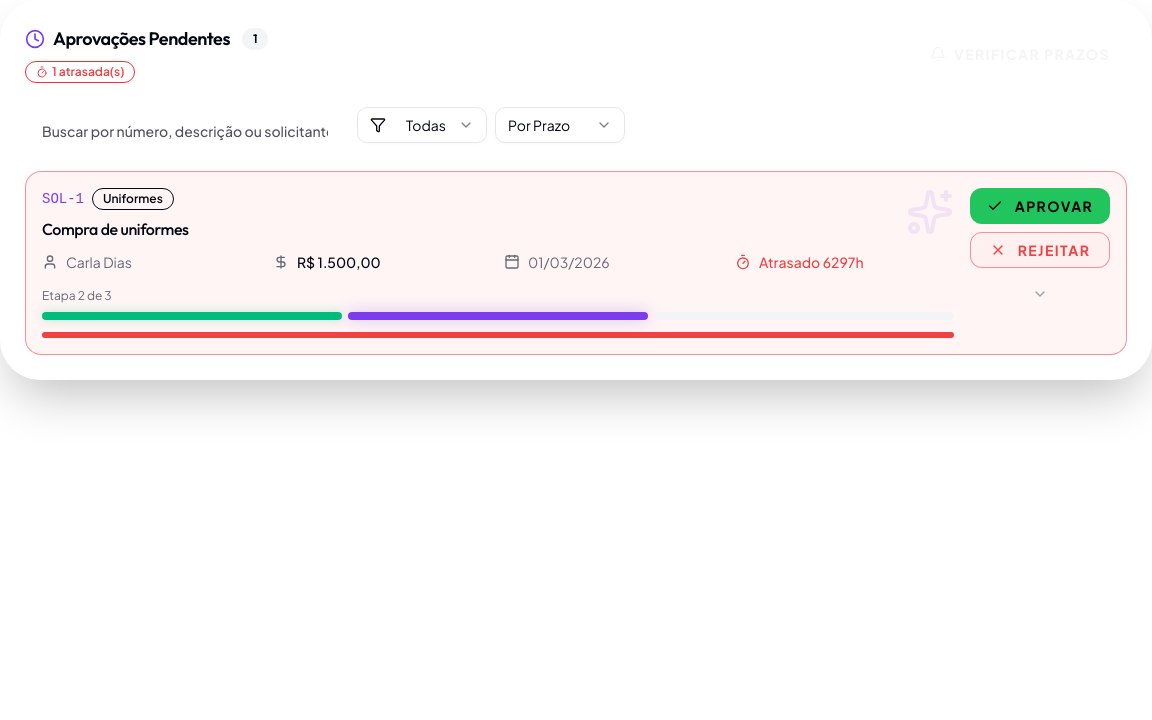
Test: PendingApprovalsList - 'Ver Histórico' abre o historico do workflow (QA 253) › sem eventos, diz que nao ha historico em vez de abrir um dialogo vazio
Press the mouse on the button named "Mais ações da aprovação" at (1040, 294), box left=970, top=276, right=1110, bottom=312
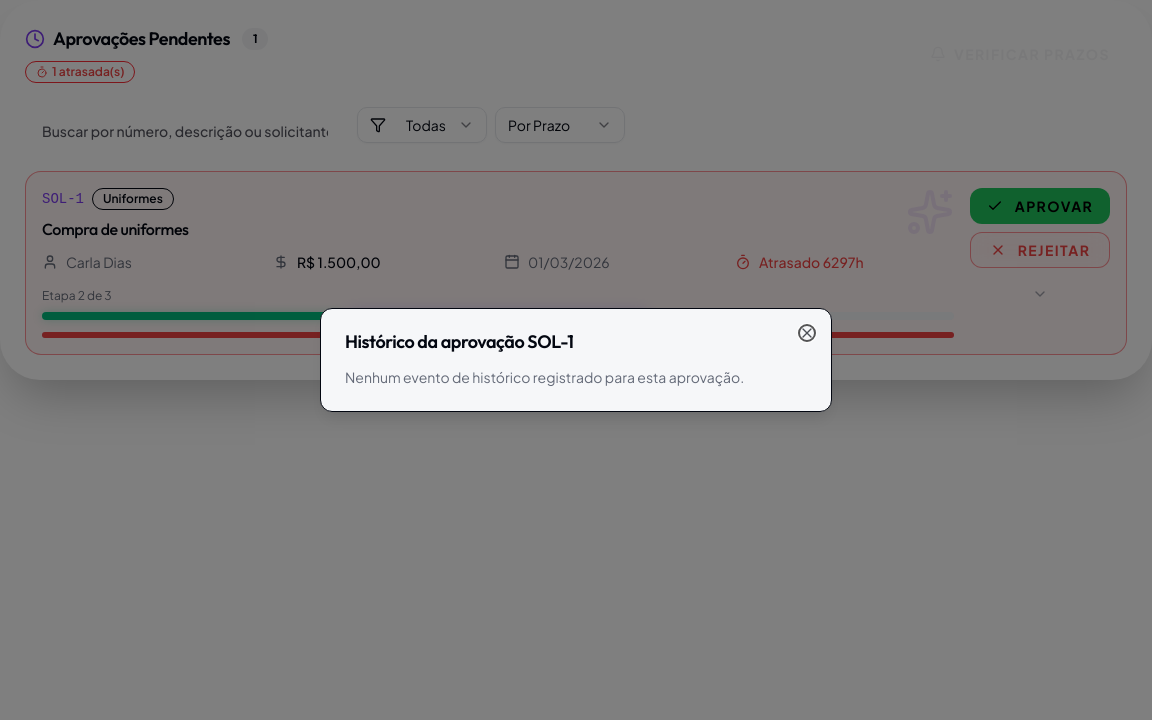
expect the dialog shows "Nenhum evento de histórico registrado para esta aprovação.": met, box left=345, top=368, right=744, bottom=386
